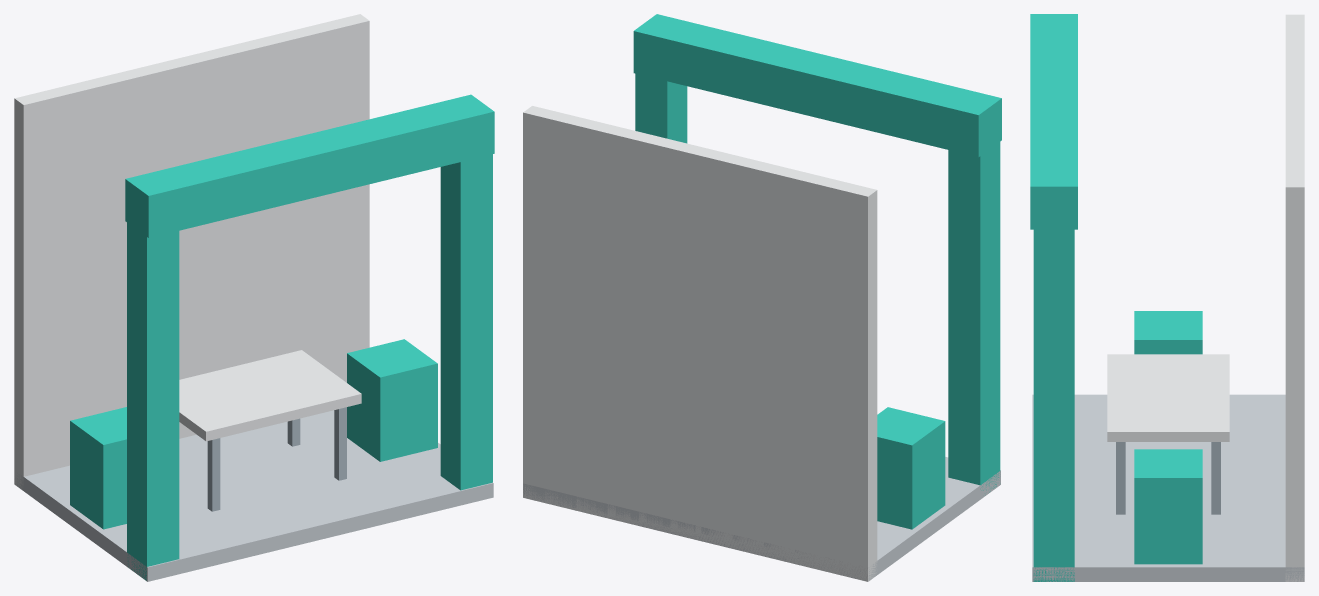
3 views of the same model, side by side, from view 1: azimuth 30°, elevation 25°; view 2: azimuth 150°, elevation 25°; view 3: azimuth 270°, elevation 25° (orthographic). The views are drawn at different scales.
Visible parts, largest first — view 1: Exhibition Booth Concept; view 2: Exhibition Booth Concept; view 3: Exhibition Booth Concept.
Part boxes in pixels (x1,y1,x2,y2): Exhibition Booth Concept: (14, 14, 494, 581); Exhibition Booth Concept: (523, 14, 1001, 581); Exhibition Booth Concept: (1030, 14, 1304, 581).
Bounding box in the file's own units: 3 × 3.2 × 2.01.
